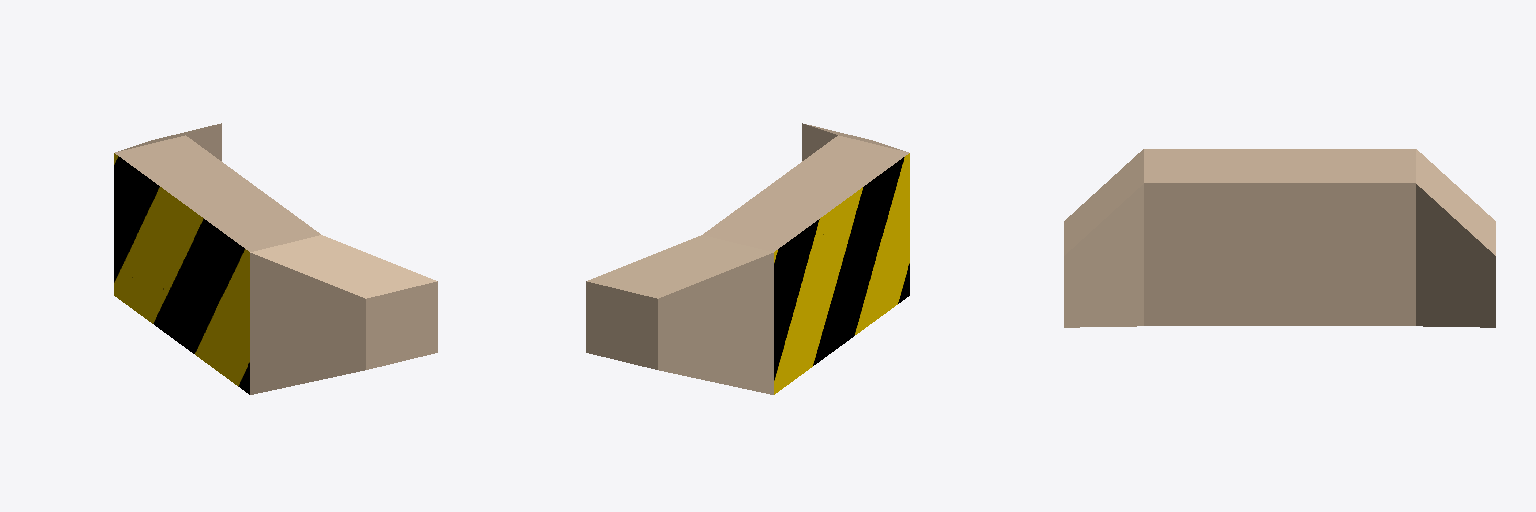
3 renders of one model, left to right at view 1: azimuth 30°, elevation 25°; view 2: azimuth 150°, elevation 25°; view 3: azimuth 270°, elevation 25°, orthographic.
Parts seen in each view (by area): view 1: Cube1; view 2: Cube1; view 3: Cube1.
Part boxes in pixels (x1,y1,x2,y2): Cube1: (114, 123, 437, 394); Cube1: (586, 123, 909, 394); Cube1: (1064, 149, 1495, 327).
Size of the model in its own units: 0.9636 by 0.8907 by 2.44.
Materials: 2 (1 with a texture image).